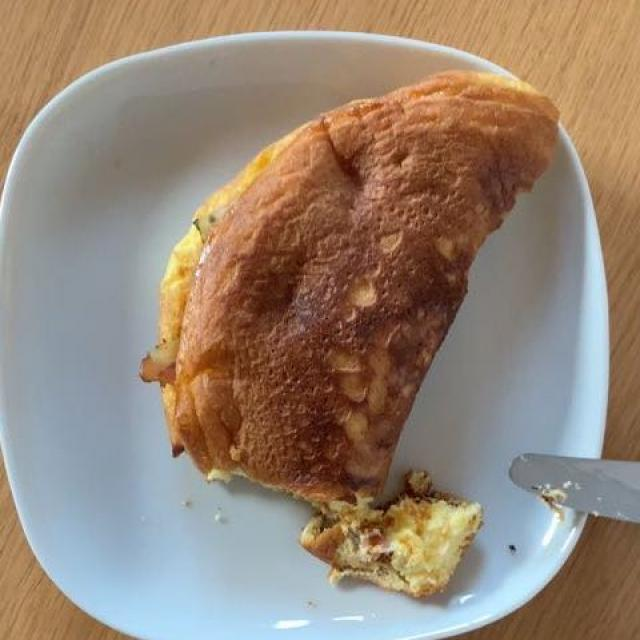omelette: (169, 88, 564, 583)
